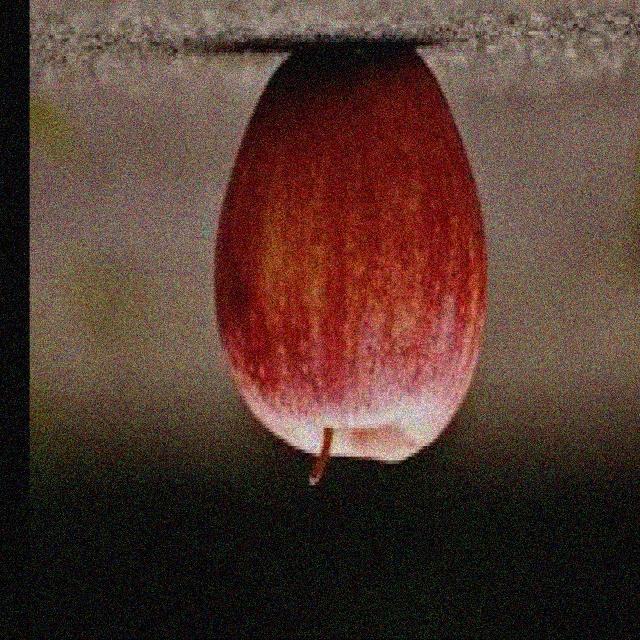red apple: (212, 45, 489, 472)
